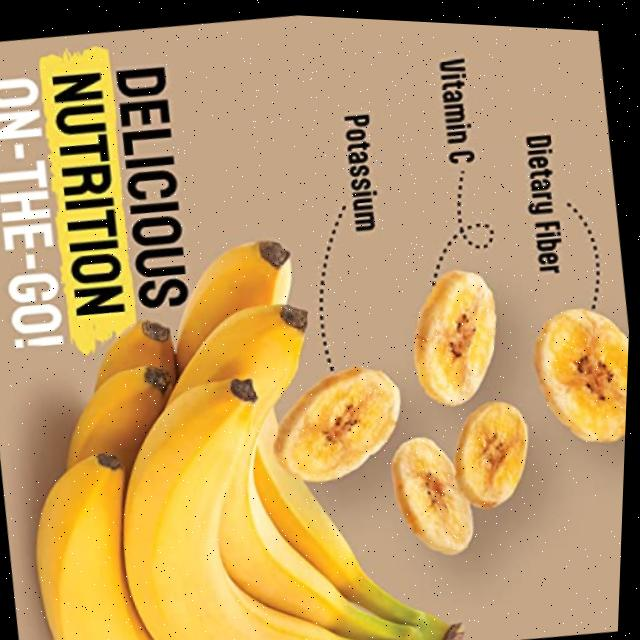Banana: (127, 376, 385, 640), (259, 407, 444, 640), (222, 442, 420, 639), (40, 454, 159, 640), (173, 302, 308, 423), (178, 239, 293, 370), (71, 365, 173, 470), (99, 320, 179, 388)
